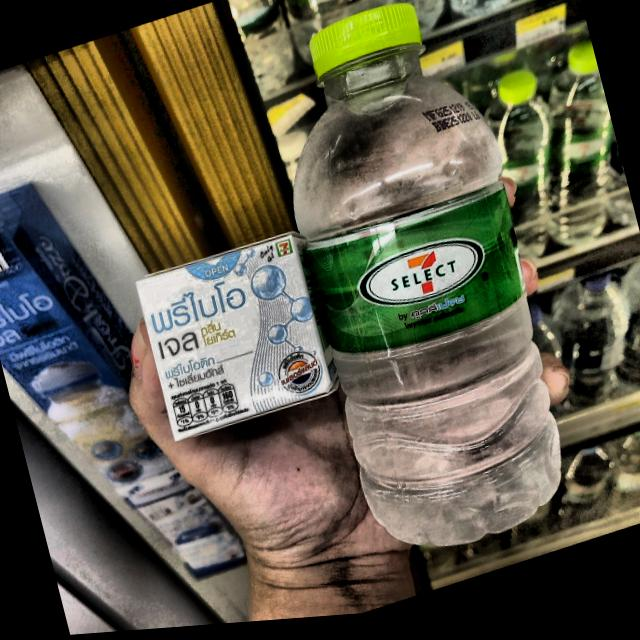Bottles: (248, 0, 595, 590)
